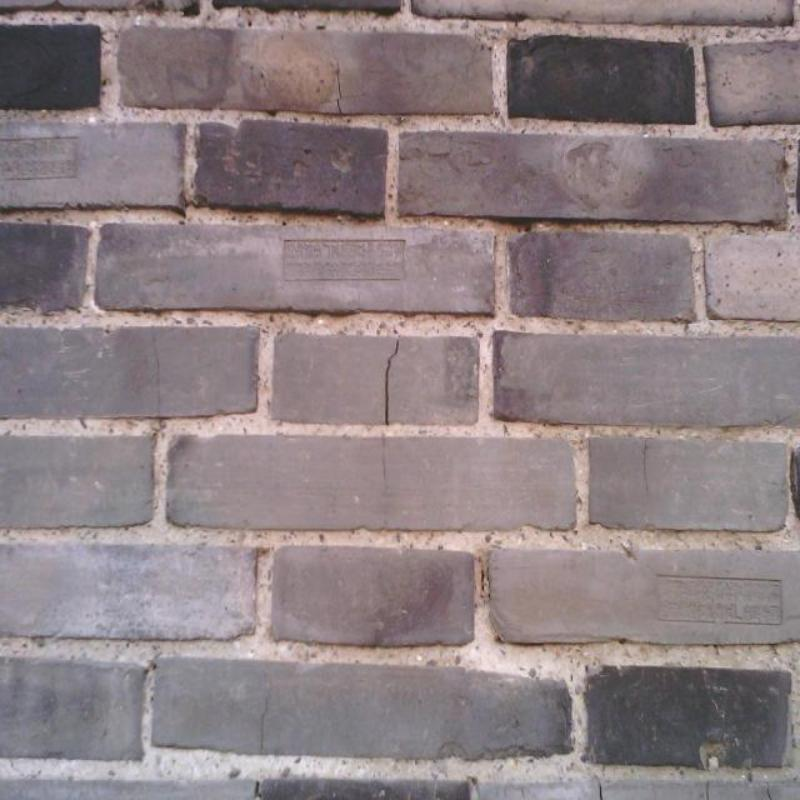pothole: (385, 339, 400, 426), (153, 327, 161, 417), (332, 60, 342, 114), (260, 697, 268, 753), (643, 439, 650, 495), (381, 438, 386, 481), (599, 781, 603, 799), (767, 784, 771, 799), (706, 784, 709, 799)
